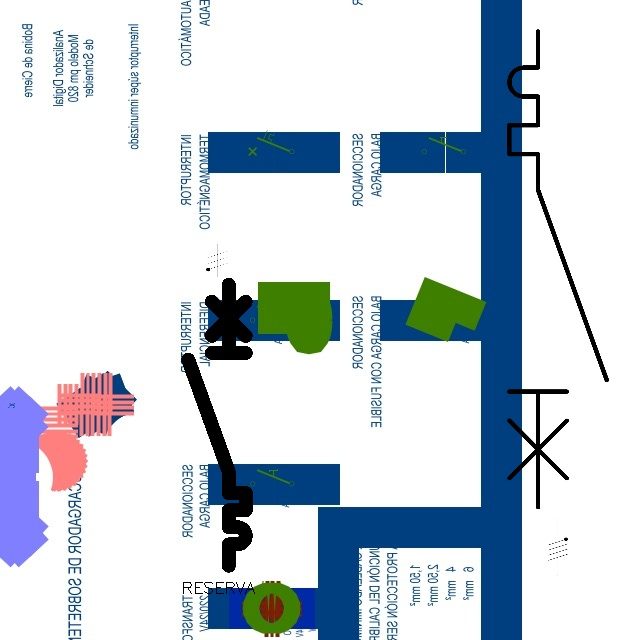interruptor_termomagnetico: (497, 19, 619, 519), (181, 277, 253, 572)
